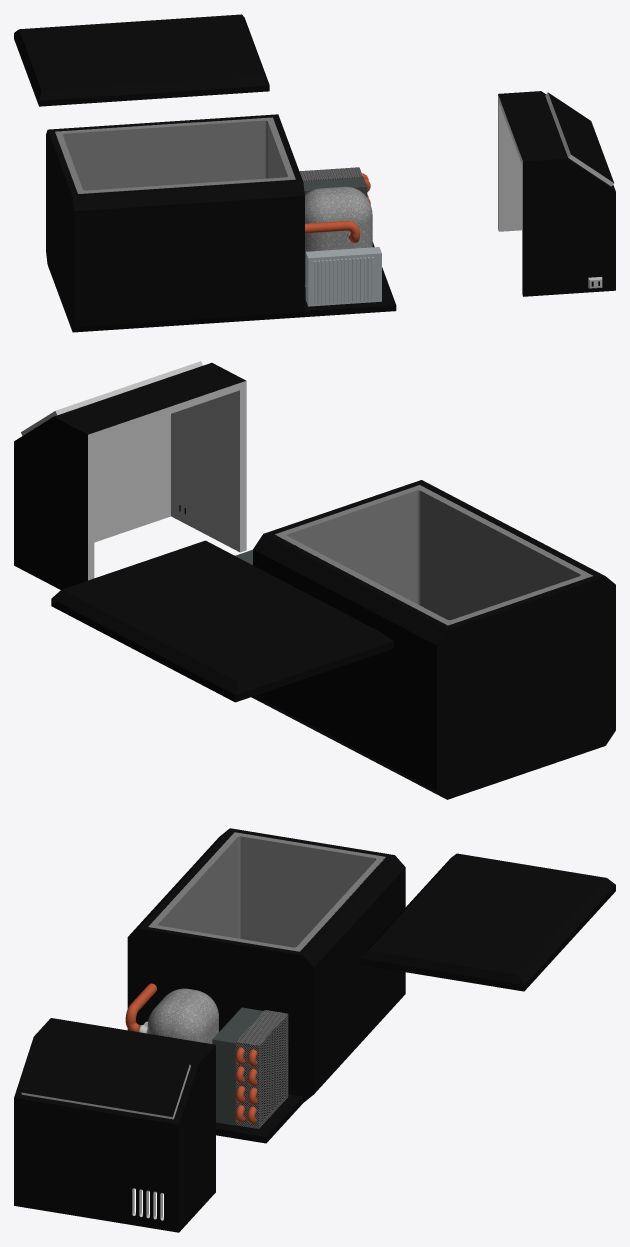
Rendered from fridge_model.glb.
3 views of the same model, one above another, from view 1: azimuth 30°, elevation 25°; view 2: azimuth 150°, elevation 25°; view 3: azimuth 270°, elevation 25° (orthographic). The views are drawn at different scales.
Visible parts, largest first — view 1: Solid1 (×8), Solid2; view 2: Solid1 (×4); view 3: Solid1 (×7), Solid2.
Boxes of the visible parts, x1,y1,x2,y2 form: Solid1 (×8): (14,14,615,332); Solid2: (305,221,359,242); Solid1 (×4): (14,361,615,799); Solid1 (×7): (14,828,615,1232); Solid2: (125,983,156,1031).
Bounding box in the file's own units: 0.8867 × 0.2513 × 0.8506.
15 materials, 3 textured.
